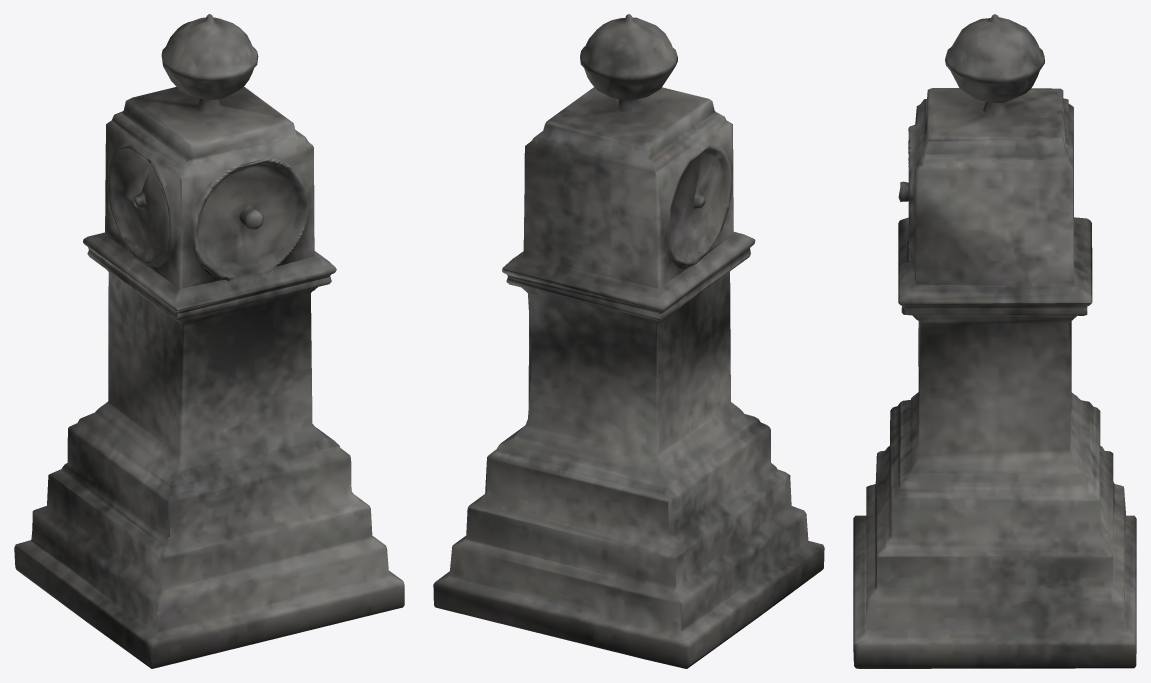
File: old-granite-sundial-v001.glb
3 views of the same model, side by side, from view 1: azimuth 30°, elevation 25°; view 2: azimuth 150°, elevation 25°; view 3: azimuth 270°, elevation 25° (orthographic). The views are drawn at different scales.
Visible parts, largest first — view 1: old-granite-sundial; view 2: old-granite-sundial; view 3: old-granite-sundial.
Boxes of the visible parts, <box> form: old-granite-sundial: <box>14,14,404,668</box>; old-granite-sundial: <box>433,14,824,668</box>; old-granite-sundial: <box>853,14,1136,668</box>.
Bounding box in the file's own units: 0.511 × 1.1 × 0.4763.
Materials: 1 (1 with a texture image).
